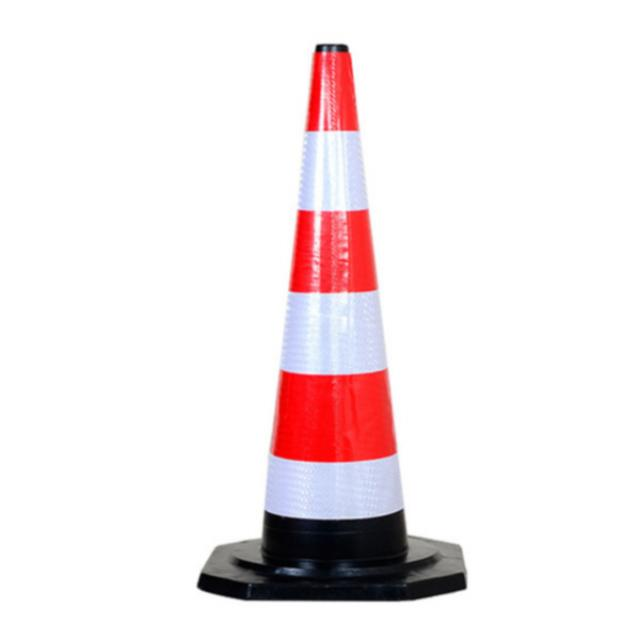reflective_cone: (192, 35, 470, 603)
